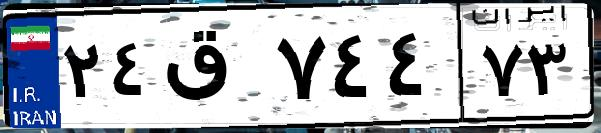2: (57, 26, 110, 100)
3: (525, 38, 570, 115)
4: (385, 28, 445, 110), (330, 28, 385, 110), (110, 28, 158, 98)
7: (270, 28, 330, 110), (475, 38, 525, 113)
ق: (158, 20, 270, 120)
